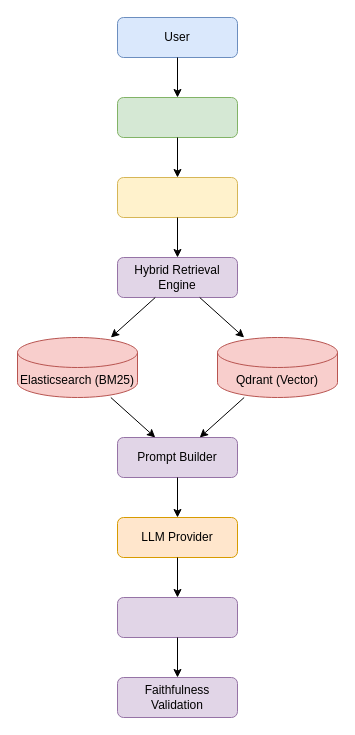
The diagram is 355 pixels wide and 735 high, and some of its shapes have lost their labels. Each missing label, with the centre of its shape:
Citation Verification: (x=177, y=617)
FastAPI Backend: (x=177, y=197)
Streamlit UI: (x=177, y=117)
